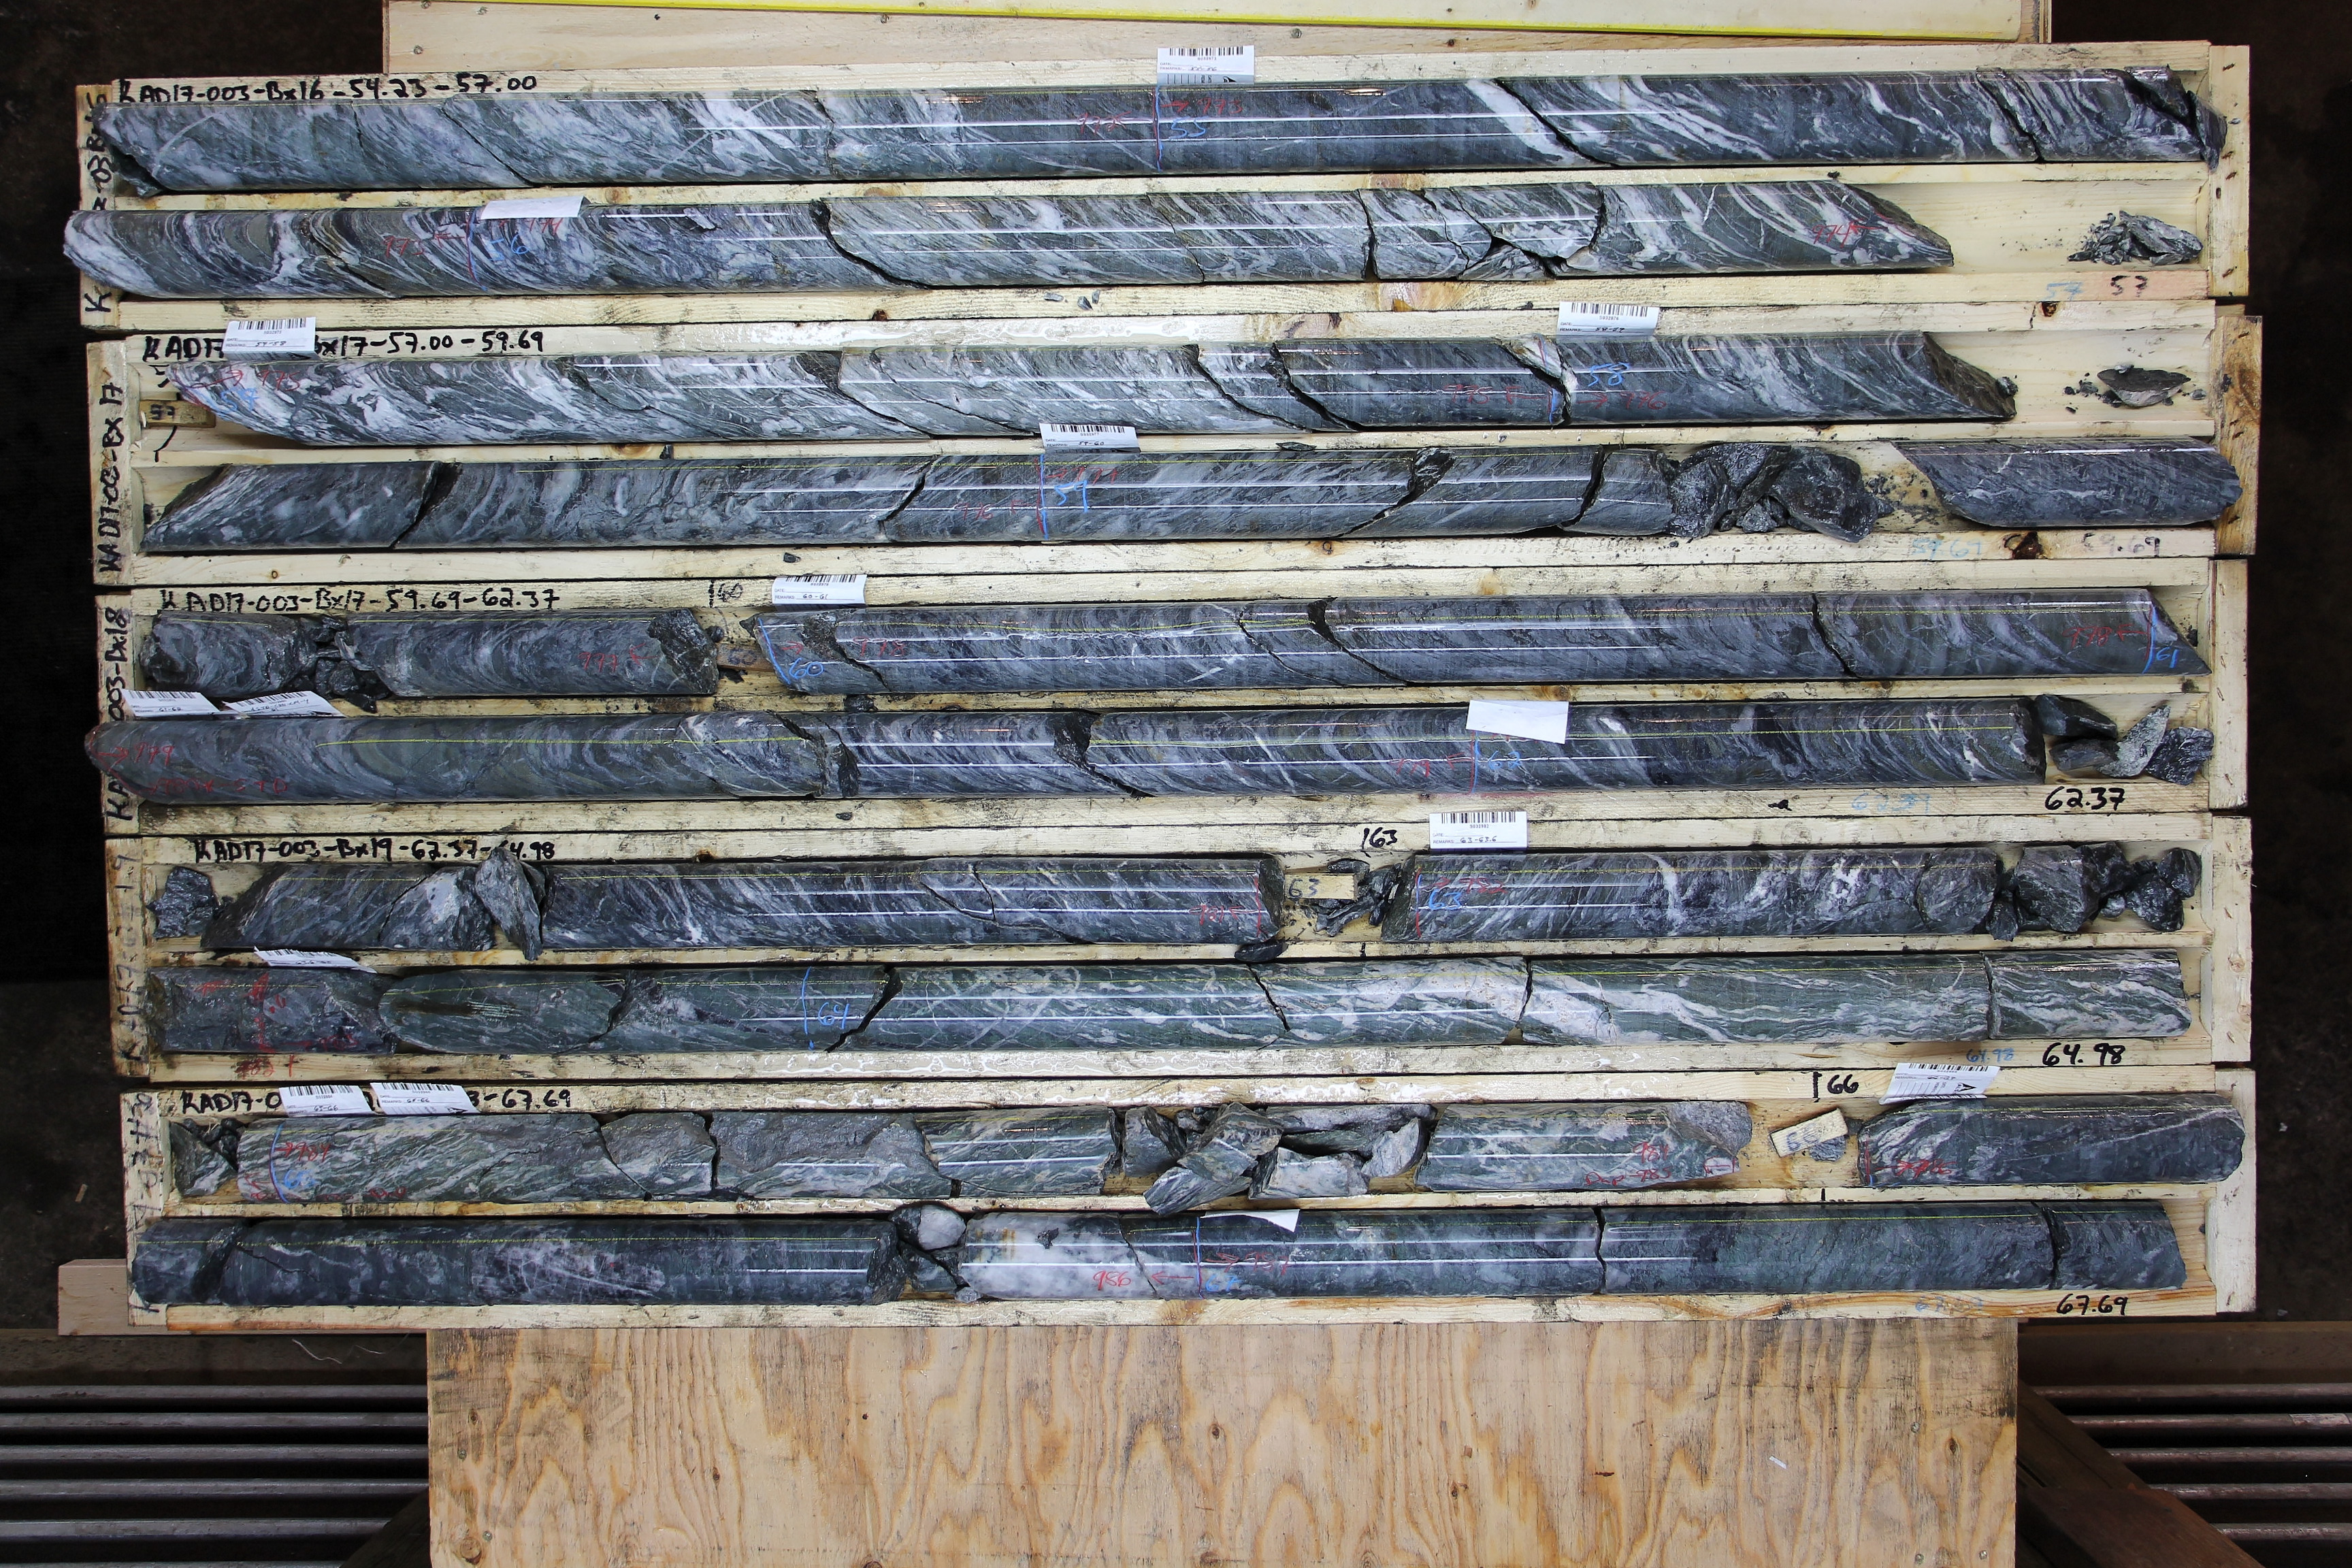rock-KAD17_003-54.23-55: (108, 90, 1160, 195)
rock-KAD17_003-55-55x: (1166, 73, 2207, 175)
rock-KAD17_003-55x-56: (118, 210, 471, 301)
rock-KAD17_003-56-57: (474, 179, 1953, 300)
rock-KAD17_003-57-58: (180, 340, 1550, 445)
rock-KAD17_003-58-58x: (1557, 334, 2014, 427)
rock-KAD17_003-58x-59: (167, 454, 1043, 556)
rock-KAD17_003-59-59x: (1045, 440, 2212, 543)
rock-KAD17_003-59x-60: (153, 611, 714, 696)
rock-KAD17_003-60-61: (764, 589, 2156, 691)
rock-KAD17_003-61-62: (131, 708, 1475, 806)
rock-KAD17_003-62-62x: (1480, 704, 2198, 788)
rock-KAD17_003-62x-63: (242, 860, 1270, 947)
rock-KAD17_003-63-63x: (1393, 843, 2198, 941)
rock-KAD17_003-63x-64: (154, 967, 804, 1051)
rock-KAD17_003-64-64x: (806, 955, 2197, 1046)
rock-KAD17_003-64x-65: (173, 1118, 276, 1200)
rock-KAD17_003-65-66: (287, 1097, 1754, 1200)
rock-KAD17_003-66-66x: (1867, 1095, 2217, 1186)
rock-KAD17_003-66x-67: (168, 1214, 1197, 1305)
rock-KAD17_003-67-67.69: (1202, 1203, 2179, 1294)
